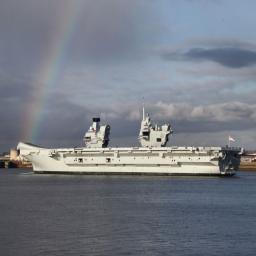Portanaves: (17, 99, 247, 176)
